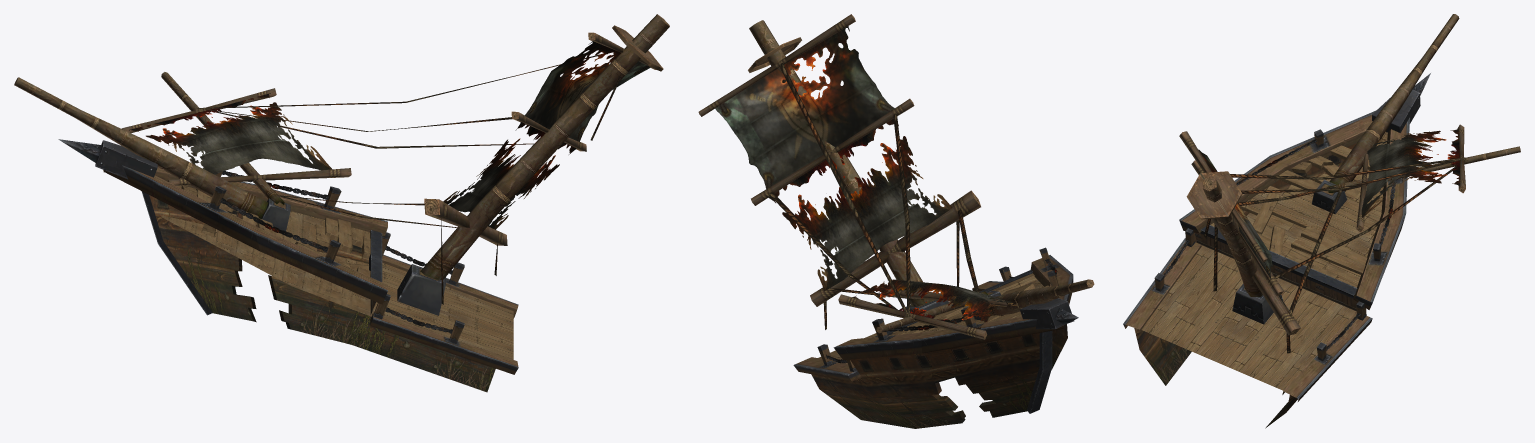
Rendered from common_city_chuan01_po.FBX.
3 renders of one model, left to right at view 1: azimuth 30°, elevation 25°; view 2: azimuth 150°, elevation 25°; view 3: azimuth 270°, elevation 25°, orthographic. The views are drawn at different scales.
Parts seen in each view (by area): view 1: common_city_chuan01_po; view 2: common_city_chuan01_po; view 3: common_city_chuan01_po.
Boxes of the visible parts, x1,y1,x2,y2 form: common_city_chuan01_po: [14, 14, 669, 392]; common_city_chuan01_po: [698, 14, 1094, 428]; common_city_chuan01_po: [1123, 14, 1520, 428].
Size of the model in its own units: 26.67 by 20.48 by 18.23.
